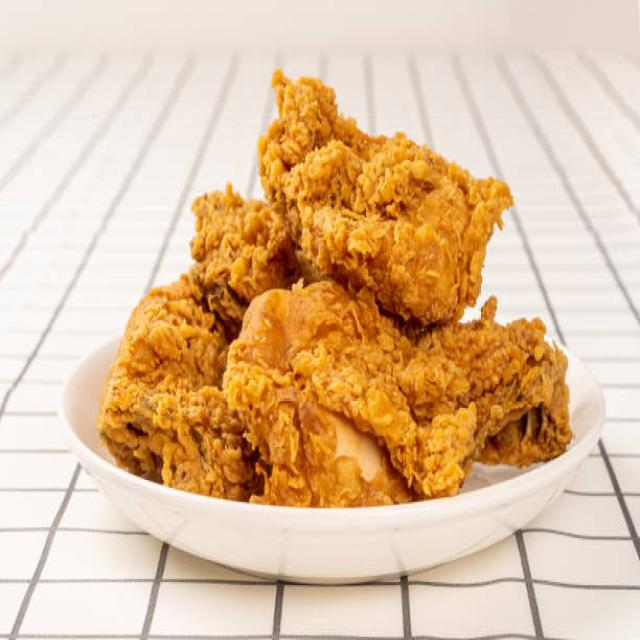Frango: (96, 68, 573, 506)
